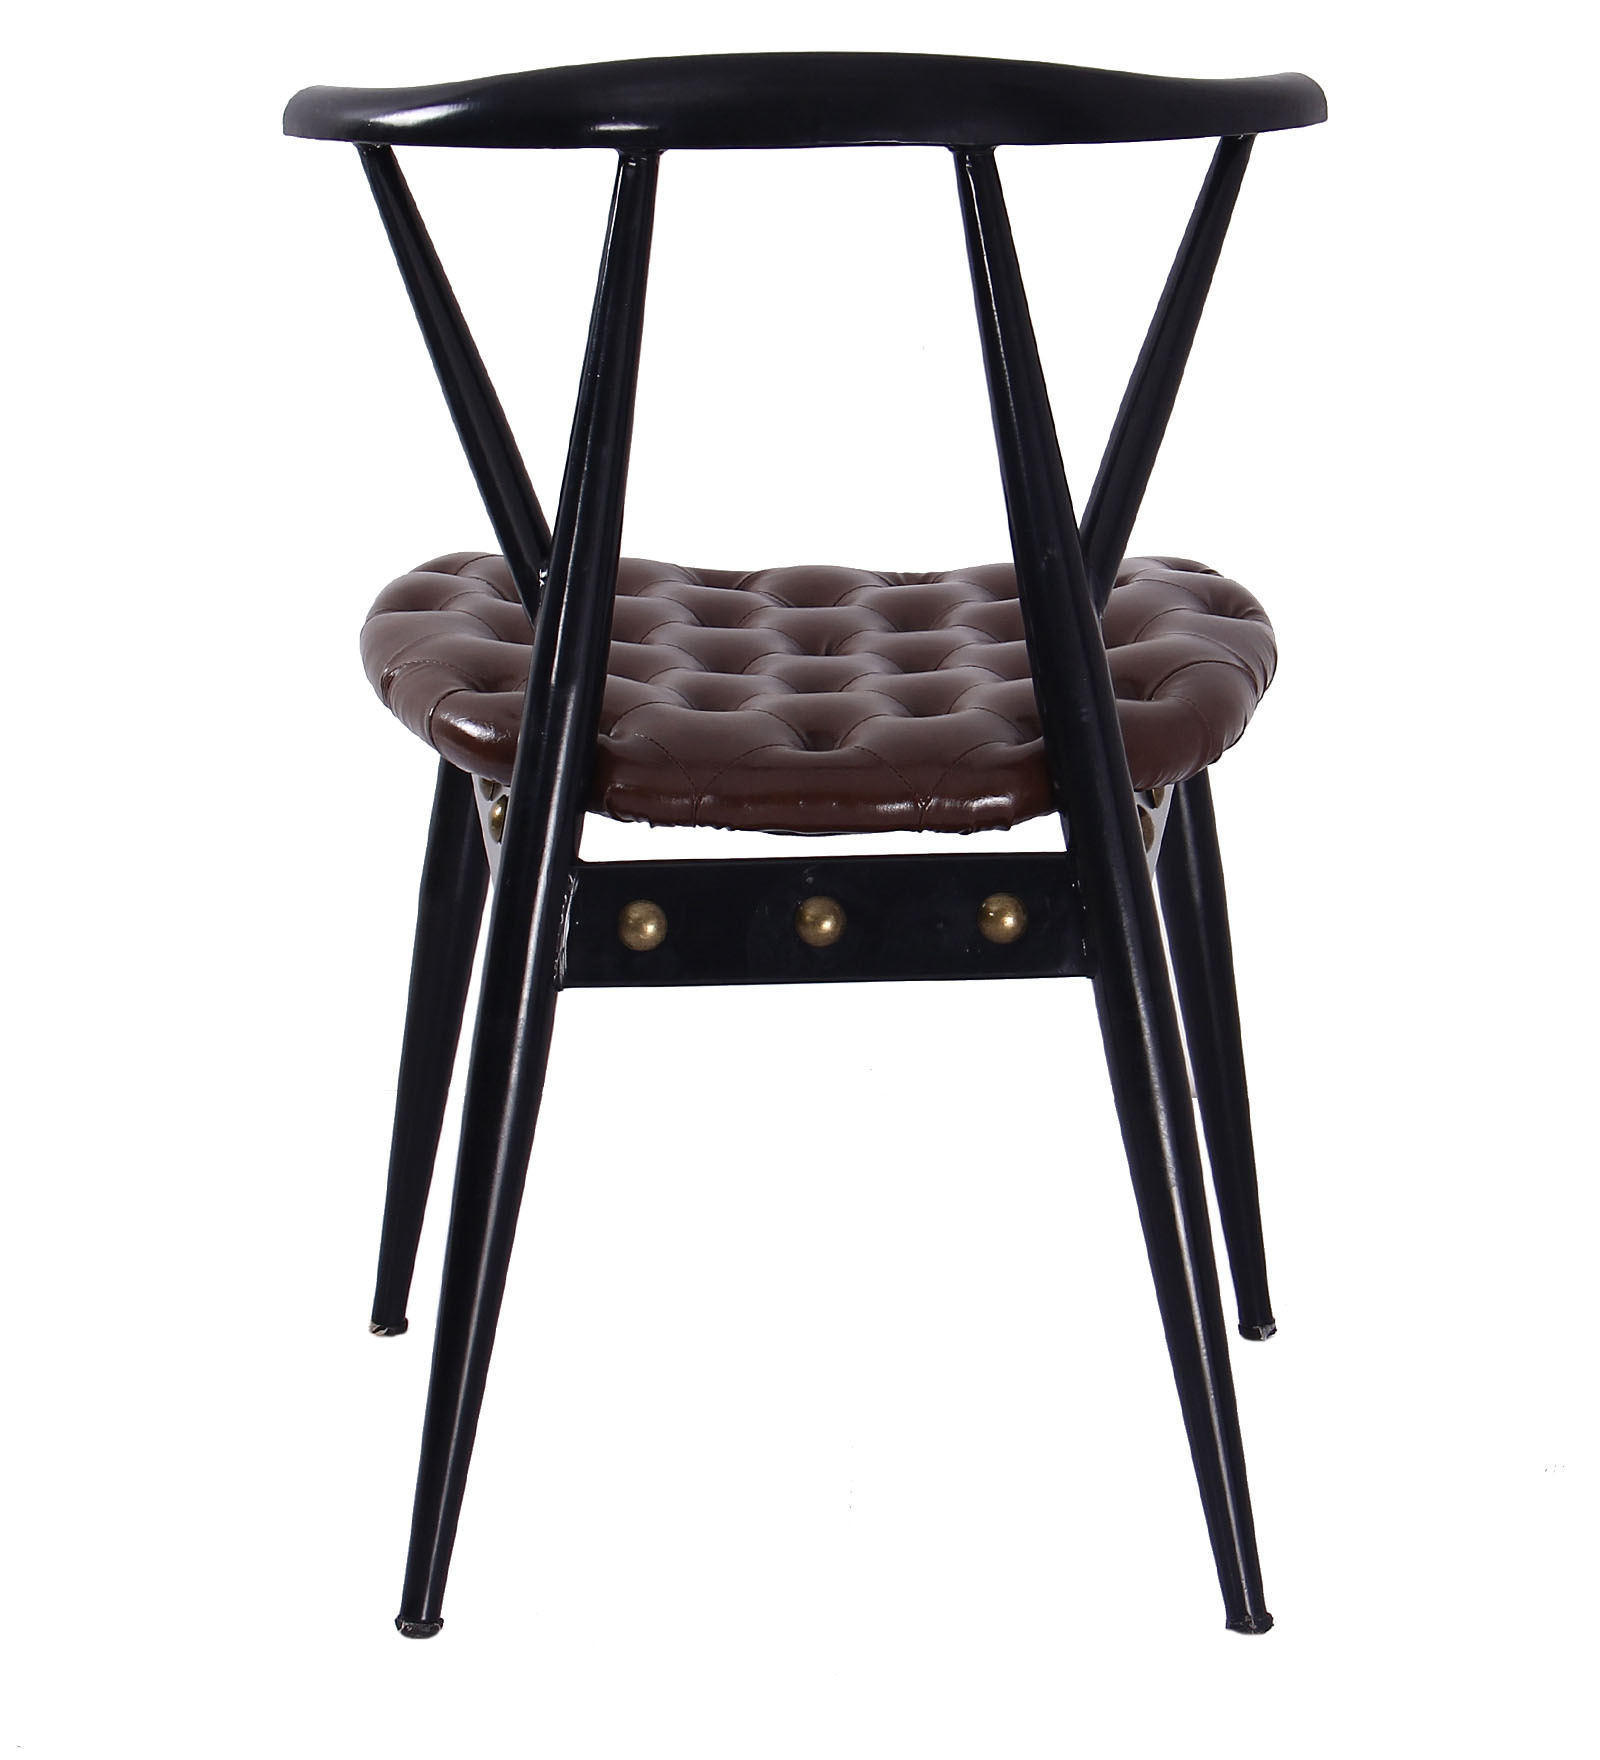Negus Metal Chair (Set of 2) in Black Colour by Bohemiana: (267, 54, 1310, 1643)
